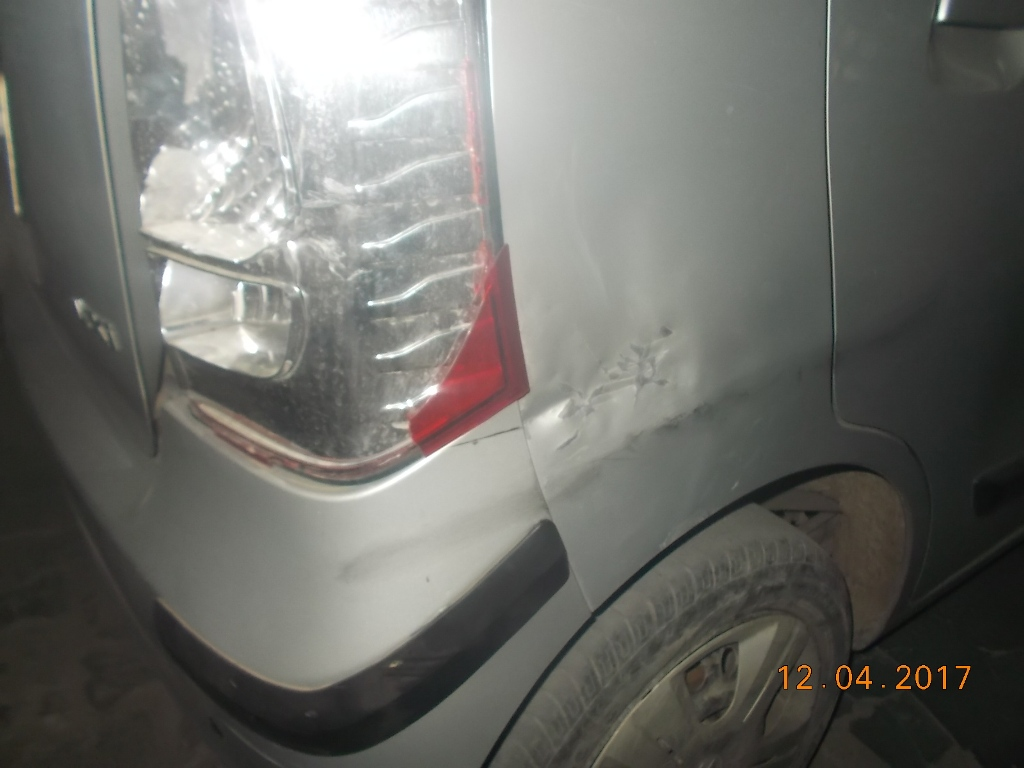Dent: (547, 330, 717, 459)
